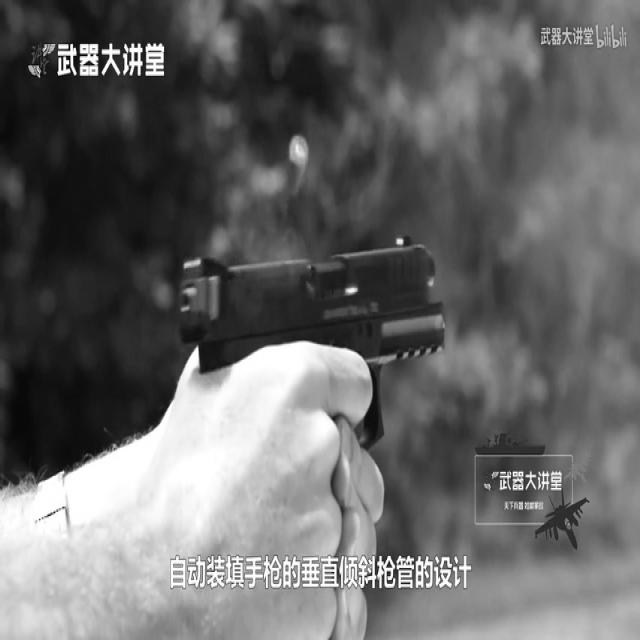Hand-Gun: (135, 157, 501, 640)
